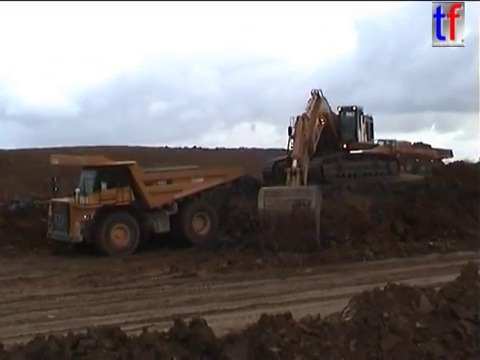excavator: (253, 86, 402, 255)
truck: (39, 152, 243, 257), (359, 137, 439, 173), (387, 142, 455, 173)
